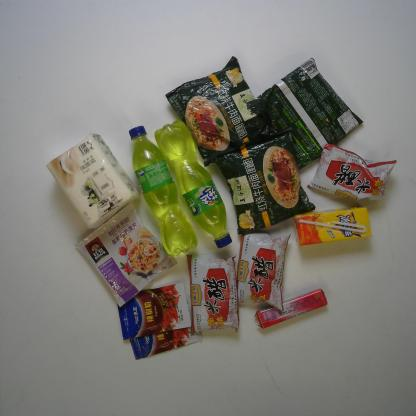Candy: (253, 287, 329, 330)
Drink: (153, 118, 234, 249), (128, 124, 199, 258), (293, 204, 372, 246)
Instant Drink: (73, 200, 179, 308)
Instant Noodles: (245, 56, 364, 172), (165, 55, 272, 169), (212, 125, 316, 235)
Seasoner: (306, 143, 398, 203), (128, 297, 204, 361), (116, 281, 192, 341), (186, 253, 240, 336), (236, 232, 292, 312)
Tissue: (45, 131, 142, 231)
